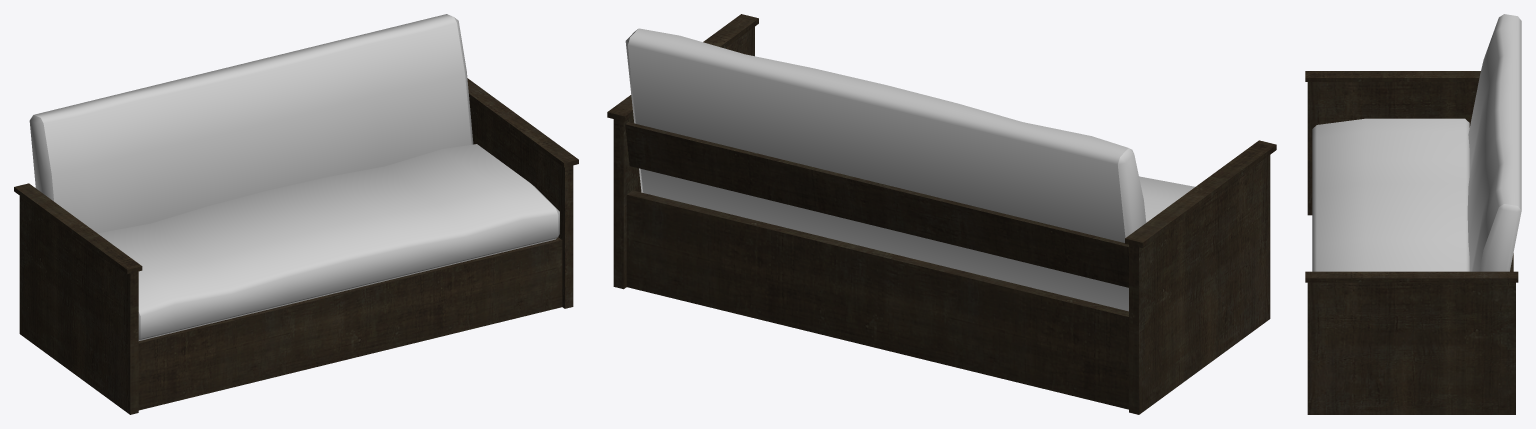
The model's file is sofa_3.fbx.
The picture shows the model from 3 angles, left to right: view 1: azimuth 30°, elevation 25°; view 2: azimuth 150°, elevation 25°; view 3: azimuth 270°, elevation 25°; orthographic projection. The views are drawn at different scales.
Visible parts, largest first — view 1: sofa_3; view 2: sofa_3; view 3: sofa_3.
Part boxes in pixels (x1,y1,x2,y2): sofa_3: (14, 14, 578, 414); sofa_3: (607, 14, 1276, 414); sofa_3: (1305, 14, 1521, 414).
Size of the model in its own units: 2.12 by 0.9346 by 0.977.
